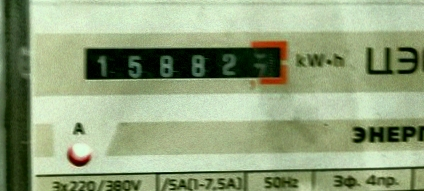1: (95, 53, 109, 78)
2: (221, 50, 237, 76)
5: (126, 53, 142, 78)
7: (252, 60, 266, 76)
8: (157, 53, 174, 77), (189, 51, 205, 76)
screen: (71, 33, 297, 94)
